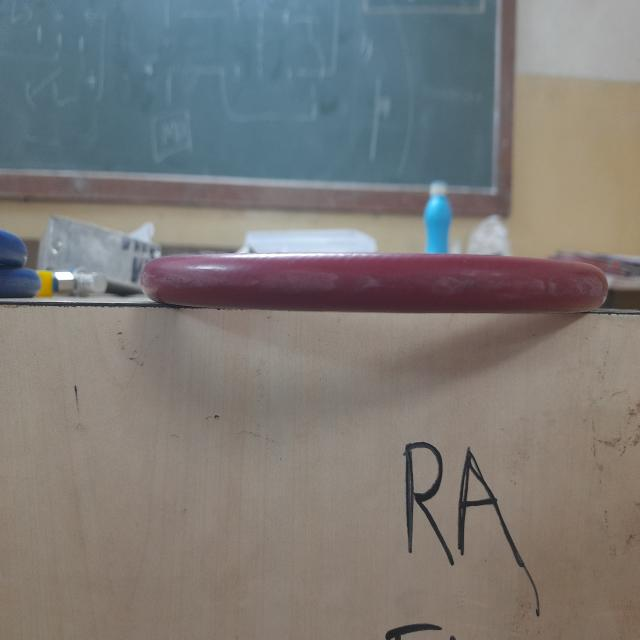daire: (147, 253, 595, 314)
